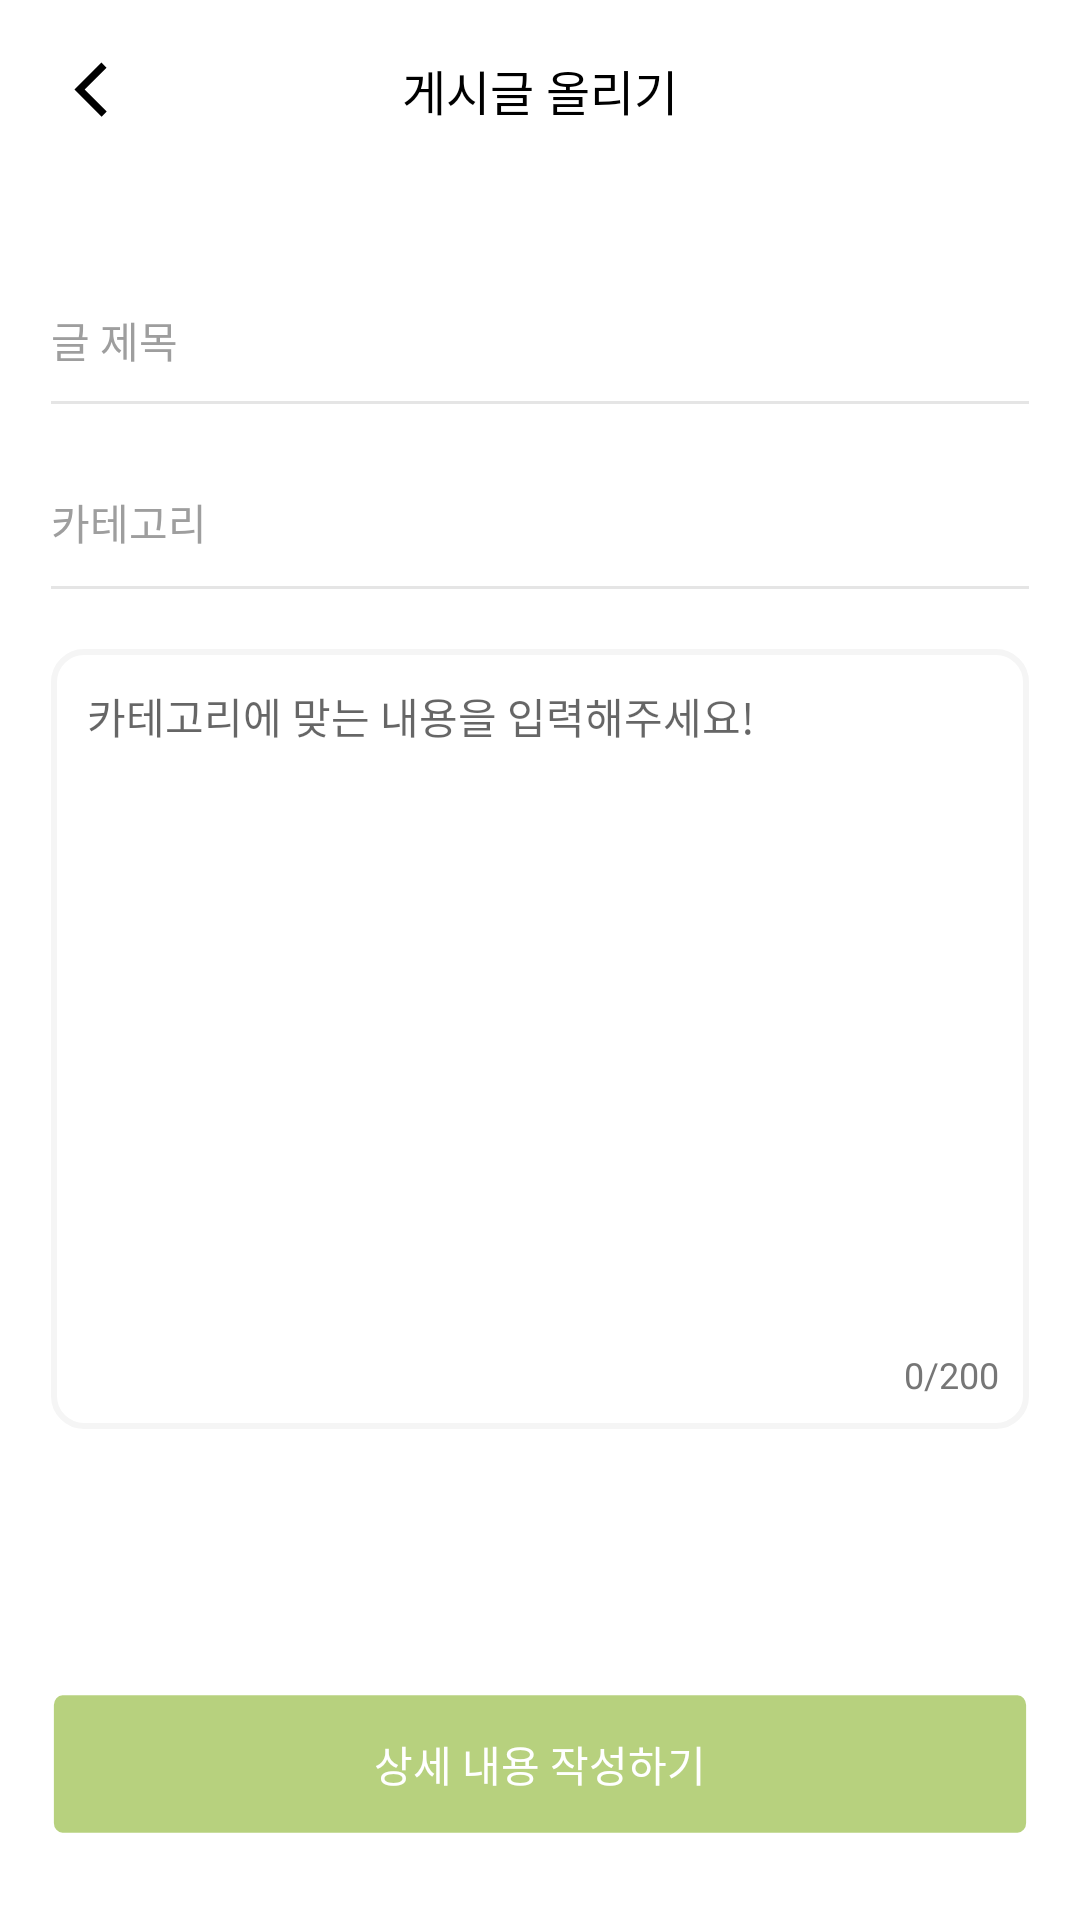

Icons on this 1080*1920 Android screen, each with the point to tap as (x,y):
back: (90,89)
